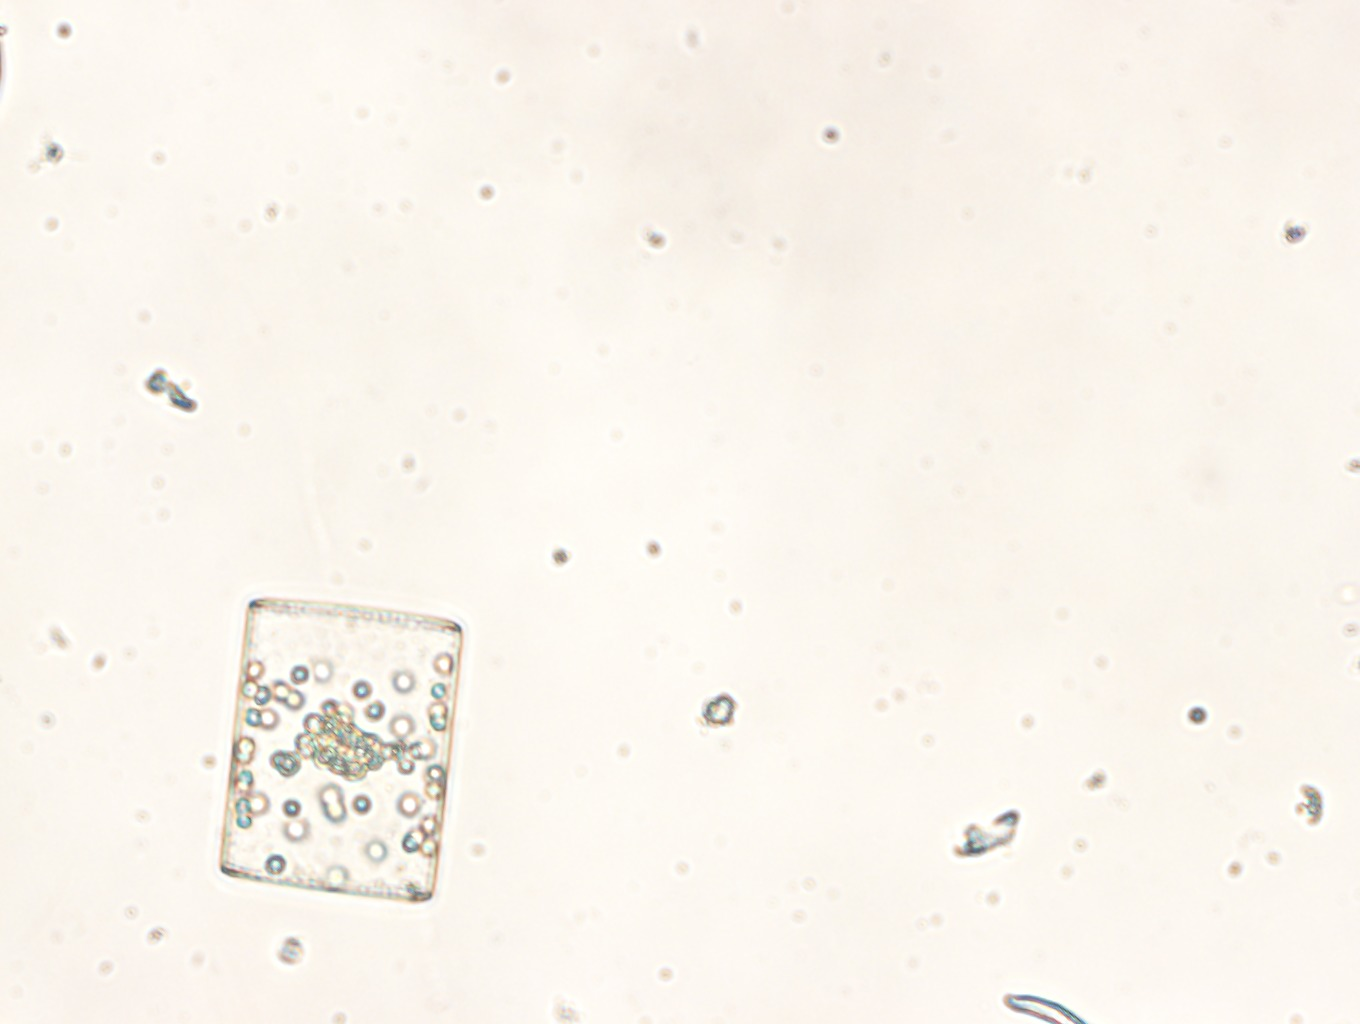guinardia flaccida: (218, 595, 462, 904)
